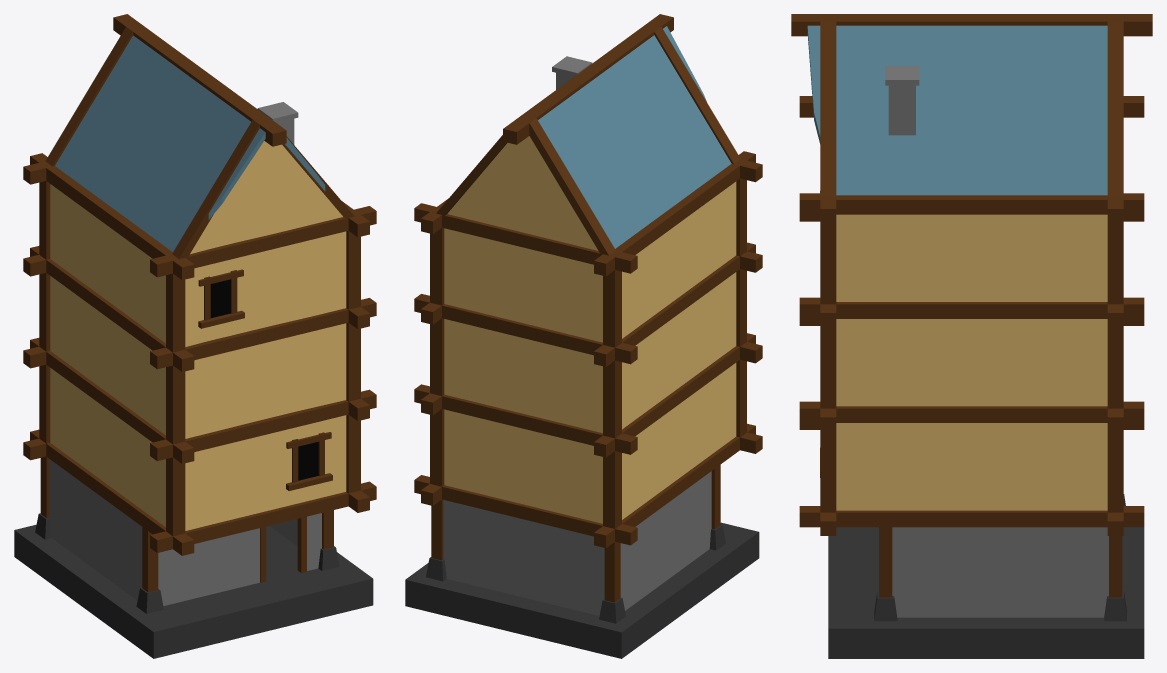
File: City_Core01_02_LOD1.fbx
The picture shows the model from 3 angles, left to right: view 1: azimuth 30°, elevation 25°; view 2: azimuth 150°, elevation 25°; view 3: azimuth 270°, elevation 25°; orthographic projection. The views are drawn at different scales.
Visible parts, largest first — view 1: MBS_City_Core01_02_LOD1; view 2: MBS_City_Core01_02_LOD1; view 3: MBS_City_Core01_02_LOD1.
Boxes of the visible parts, x1,y1,x2,y2 form: MBS_City_Core01_02_LOD1: [14, 14, 376, 658]; MBS_City_Core01_02_LOD1: [405, 14, 762, 658]; MBS_City_Core01_02_LOD1: [791, 14, 1152, 658].
Bounding box in the file's own units: 1000 × 2228 × 1256.
